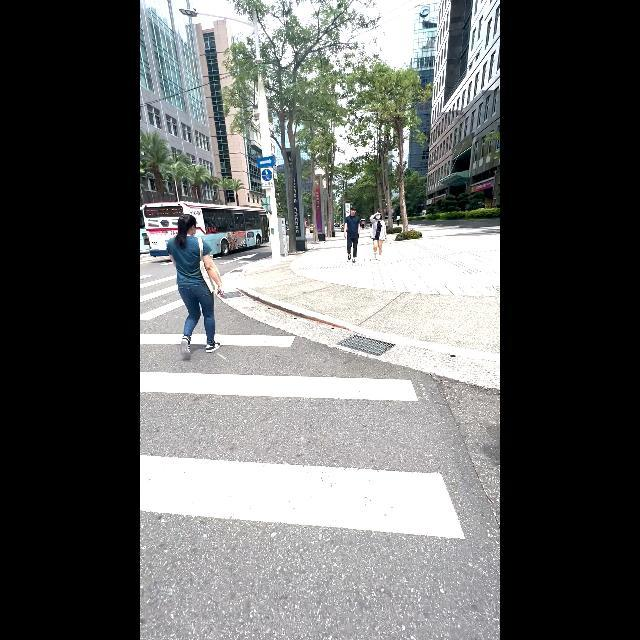sidewalk: (140, 333, 464, 539)
